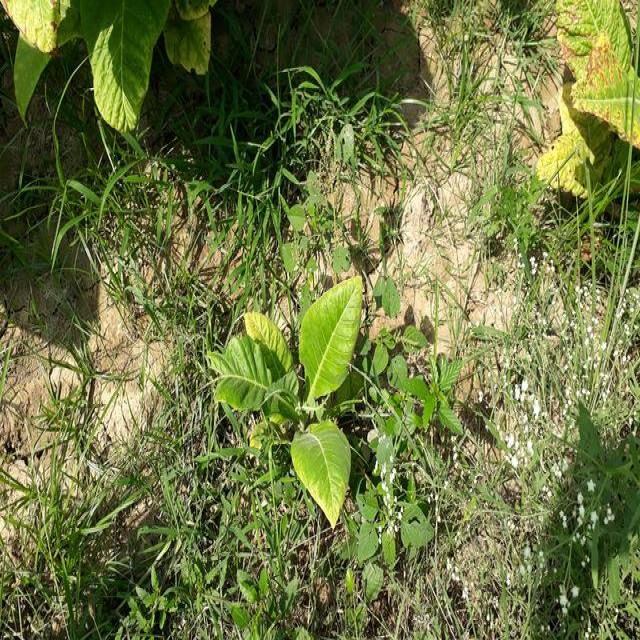crop: (202, 274, 372, 532)
